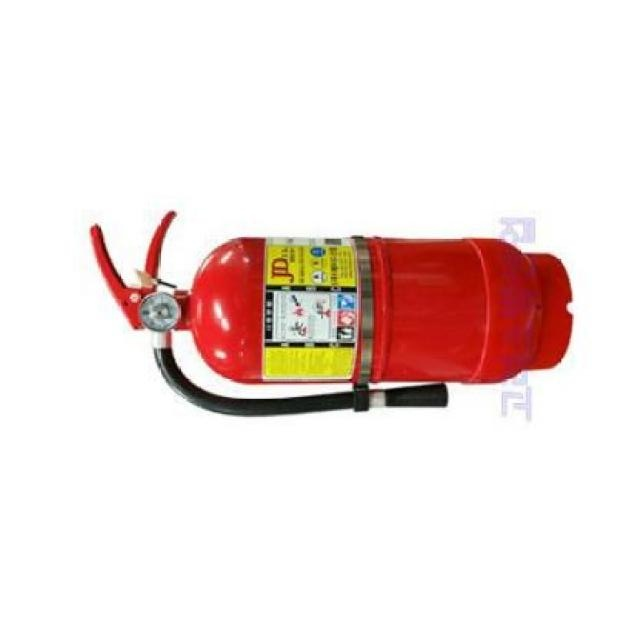fire extinguisher: (88, 210, 574, 419)
